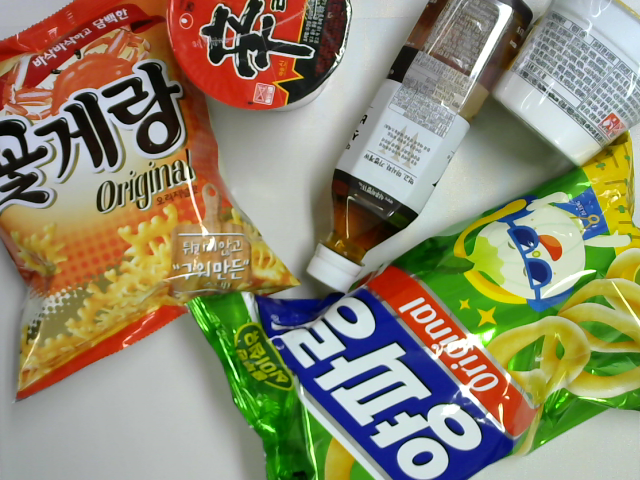Crabrang: (1, 1, 302, 405)
Hejangmini: (490, 1, 640, 172)
Oninon_Ring: (185, 131, 640, 480)
Post-meal_recipe_W_tea_500ml: (304, 1, 536, 295)
Sinramen_small: (163, 1, 354, 116)
